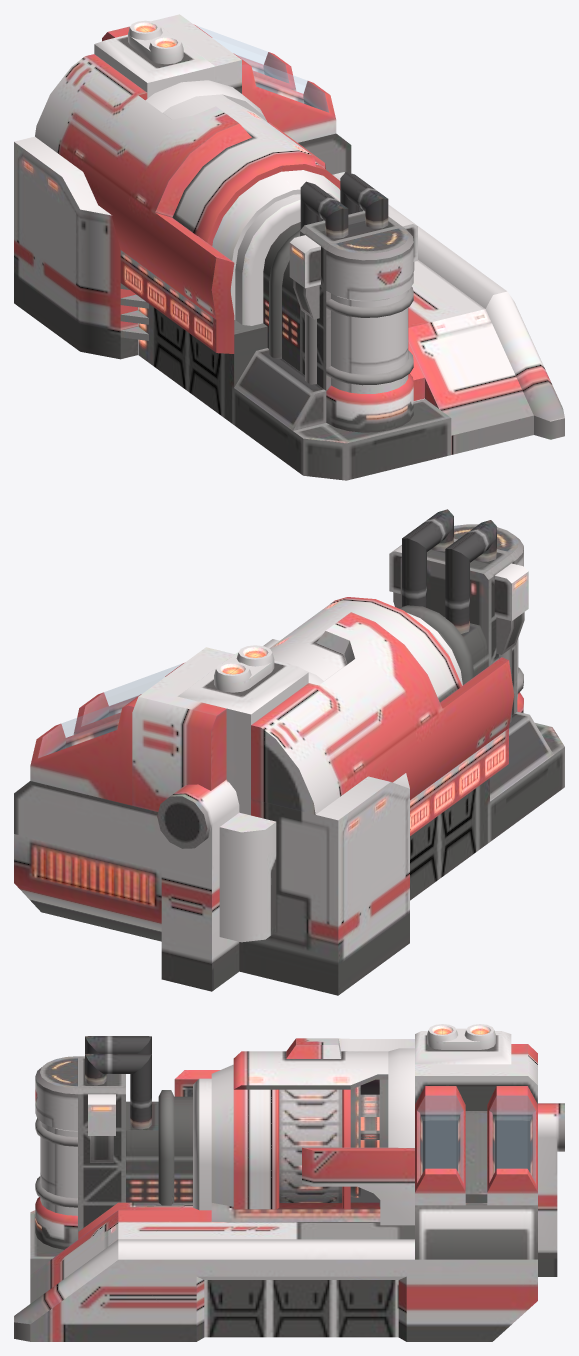
The picture shows the model from 3 angles, top to bottom: view 1: azimuth 30°, elevation 25°; view 2: azimuth 150°, elevation 25°; view 3: azimuth 270°, elevation 25°; orthographic projection. The views are drawn at different scales.
Visible parts, largest first — view 1: power-generator; view 2: power-generator; view 3: power-generator.
Boxes of the visible parts, x1,y1,x2,y2 form: power-generator: [14, 14, 564, 480]; power-generator: [14, 509, 564, 995]; power-generator: [14, 1024, 564, 1341].
Bounding box in the file's own units: 4.6 × 4.03 × 8.51.
3 materials, 1 textured.
